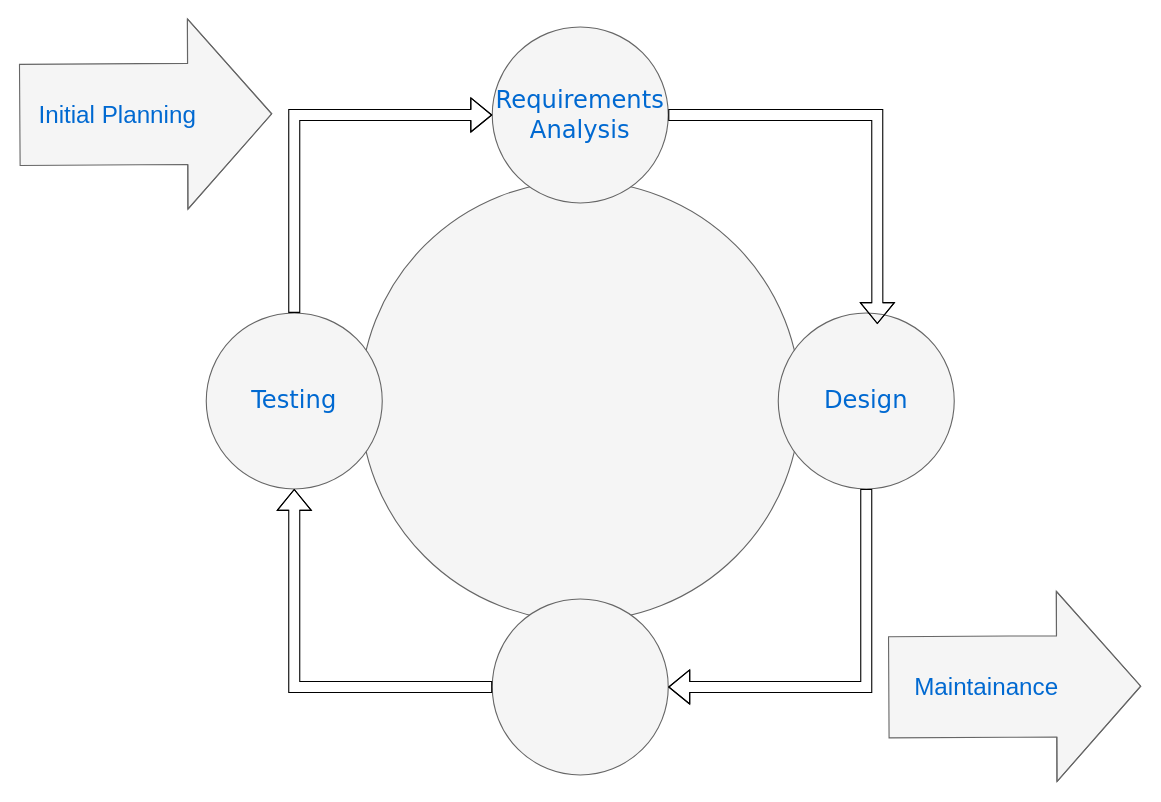
The diagram is 1161 pixels wide and 802 high, and some of its shapes have lost their labels. The box of each missing label's shape, as (x1, y1, x2, y2) in pixels:
Coding: (491, 598, 668, 775)
Deveploment Process: (359, 180, 800, 621)
